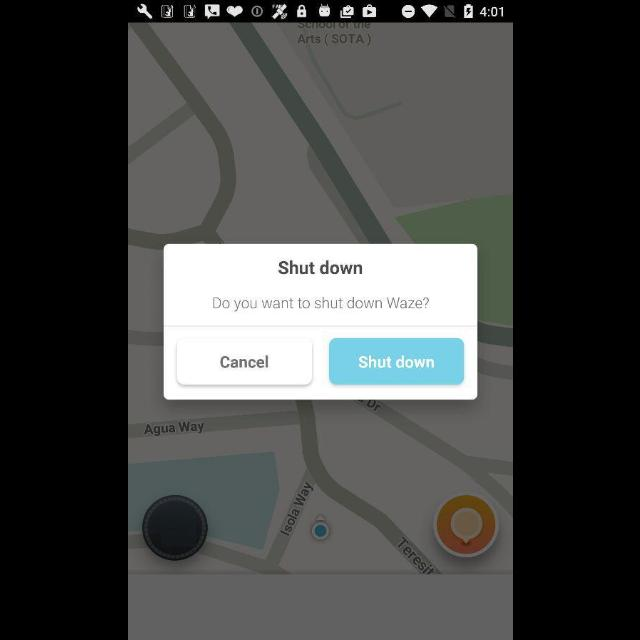panel: (164, 244, 476, 400)
text: (213, 298, 429, 312), (278, 260, 362, 274)
textbutton: (328, 338, 464, 386), (176, 338, 312, 384)
uppertaskbar: (128, 1, 512, 23)
